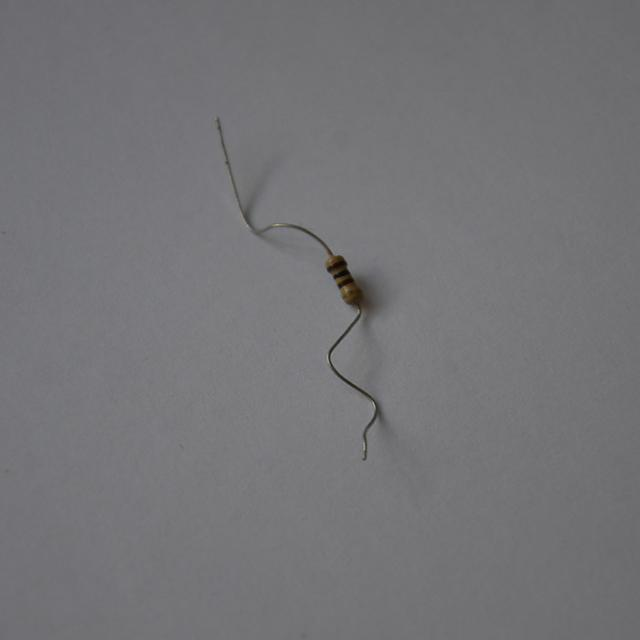black: (334, 270, 350, 280)
brown: (327, 259, 347, 272), (337, 278, 353, 289)
gold: (342, 288, 361, 300)
resistor: (314, 243, 372, 314)
